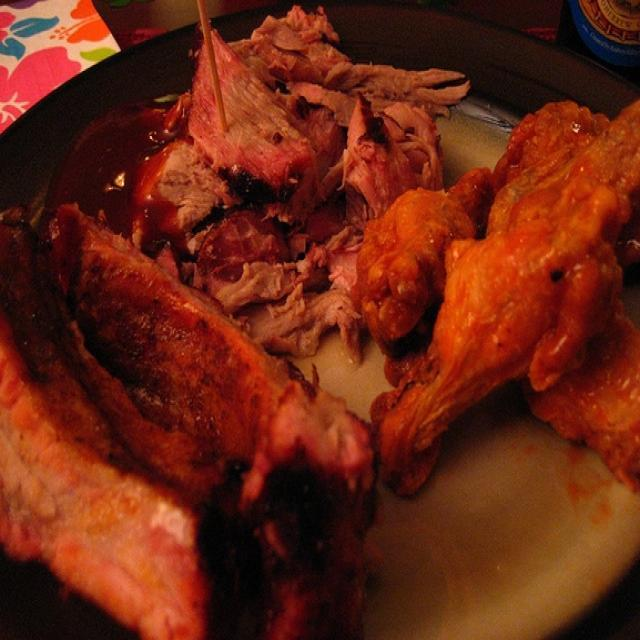Deep fried chicken wing: (41, 206, 365, 526), (386, 115, 640, 457)
